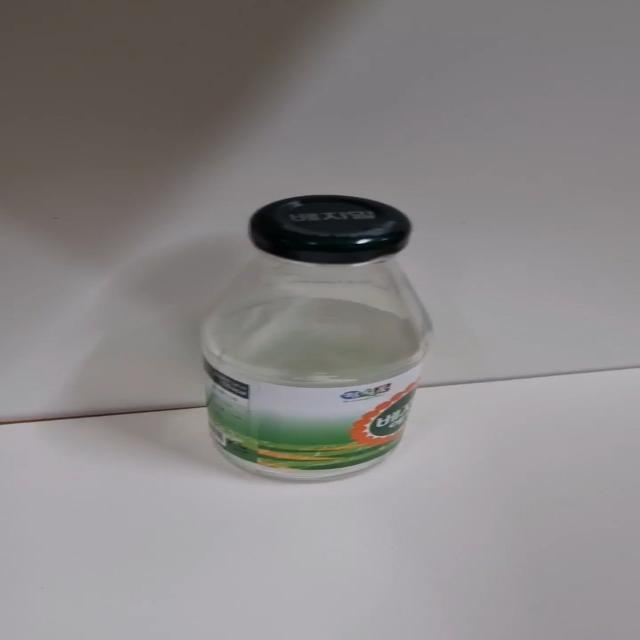Glass: (198, 187, 441, 485)
